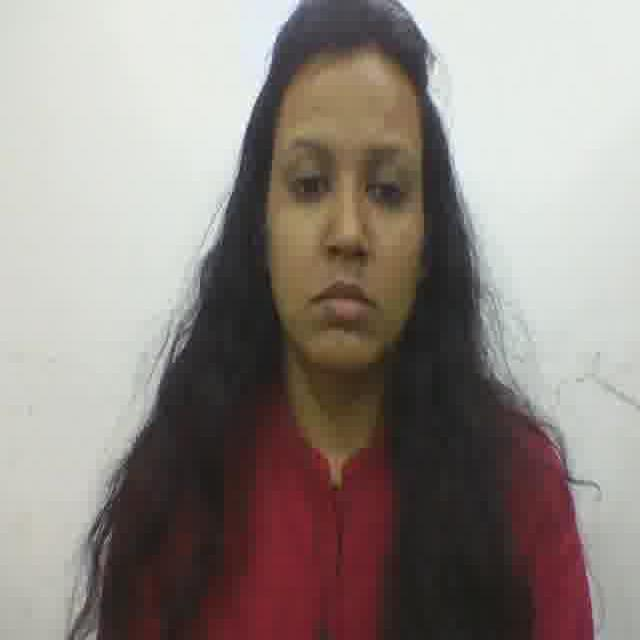Boredom: (260, 62, 425, 366)
